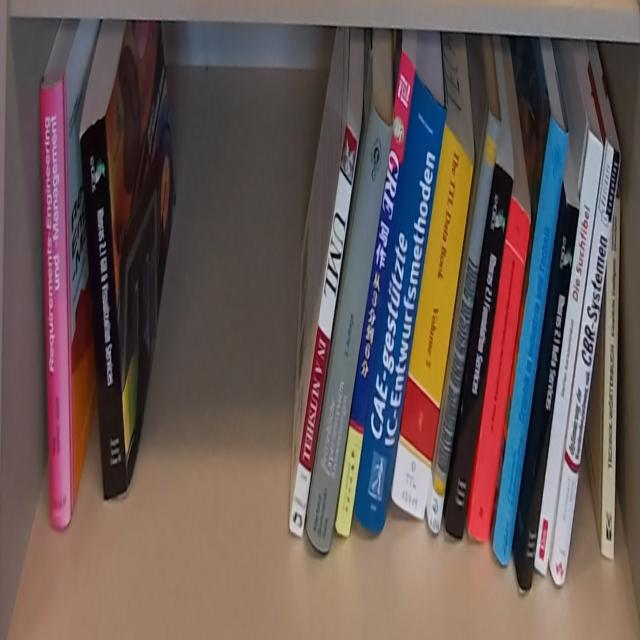Book Spine: (355, 74, 446, 531), (335, 49, 416, 539), (307, 104, 394, 555), (492, 114, 570, 568), (391, 123, 475, 524), (550, 138, 621, 586), (428, 108, 502, 535), (535, 130, 604, 575), (289, 123, 360, 543), (447, 162, 515, 539), (520, 198, 580, 591), (469, 195, 531, 543), (81, 117, 127, 500), (40, 76, 72, 528), (601, 198, 620, 561)
